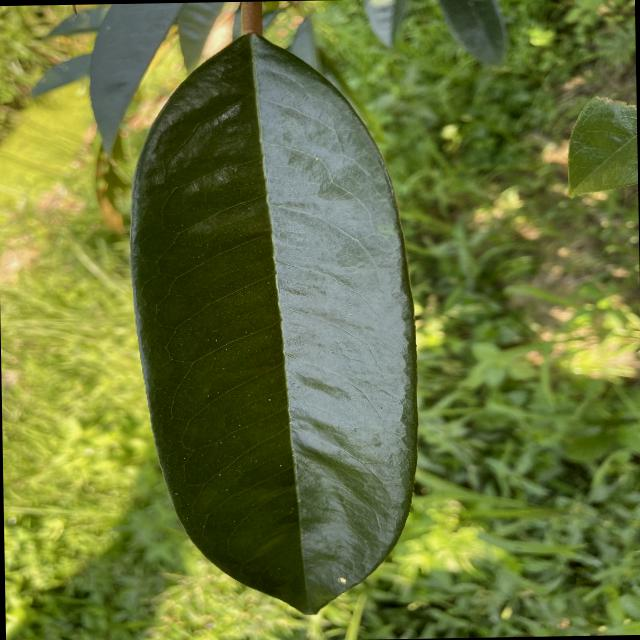No Disease: (117, 19, 430, 628)
